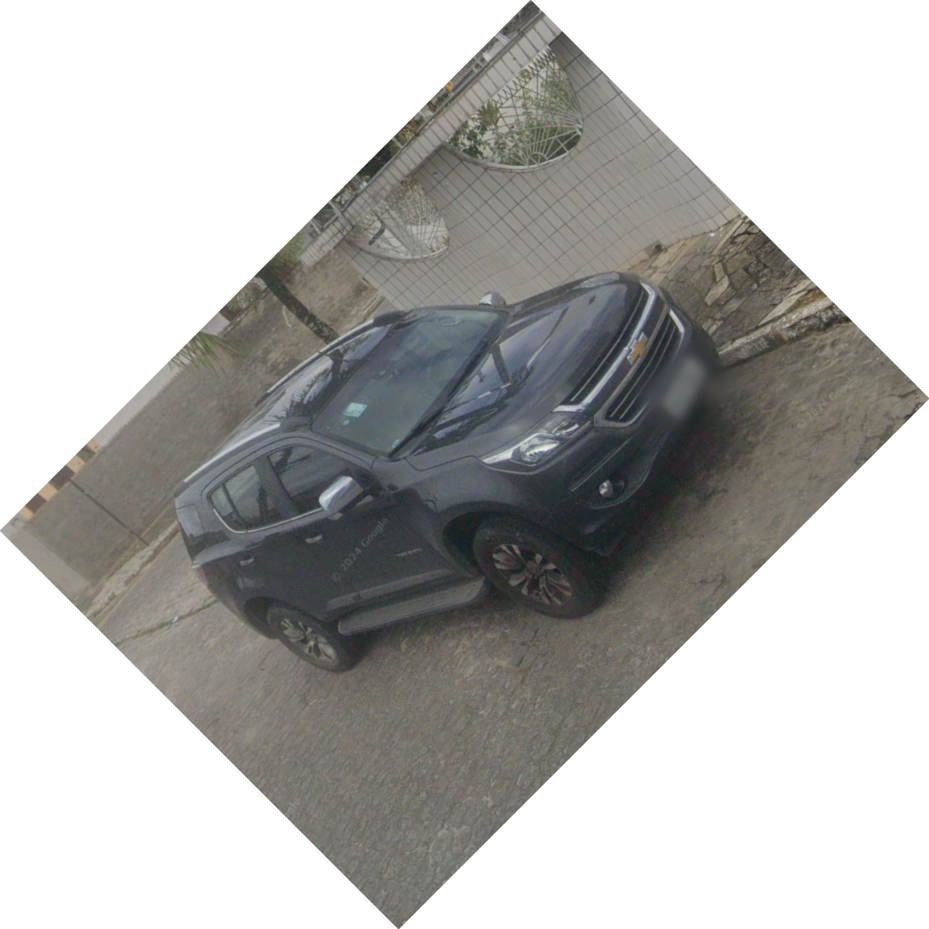car: (171, 270, 720, 672)
